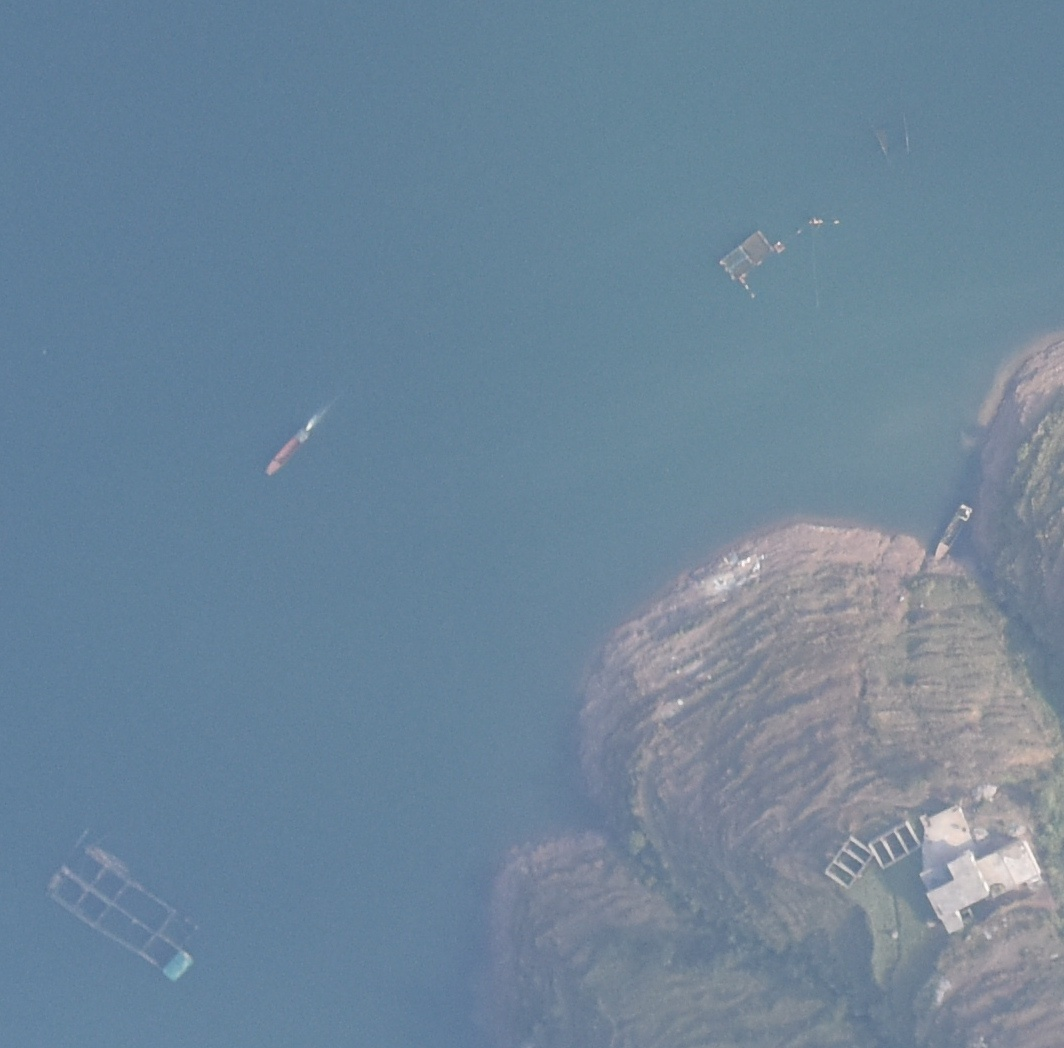building: (922, 804, 1045, 935)
cultivation-mesh-cage: (47, 841, 200, 982), (722, 228, 779, 282), (937, 503, 973, 559), (266, 428, 311, 472)
prefabricated-house: (161, 949, 195, 981)
